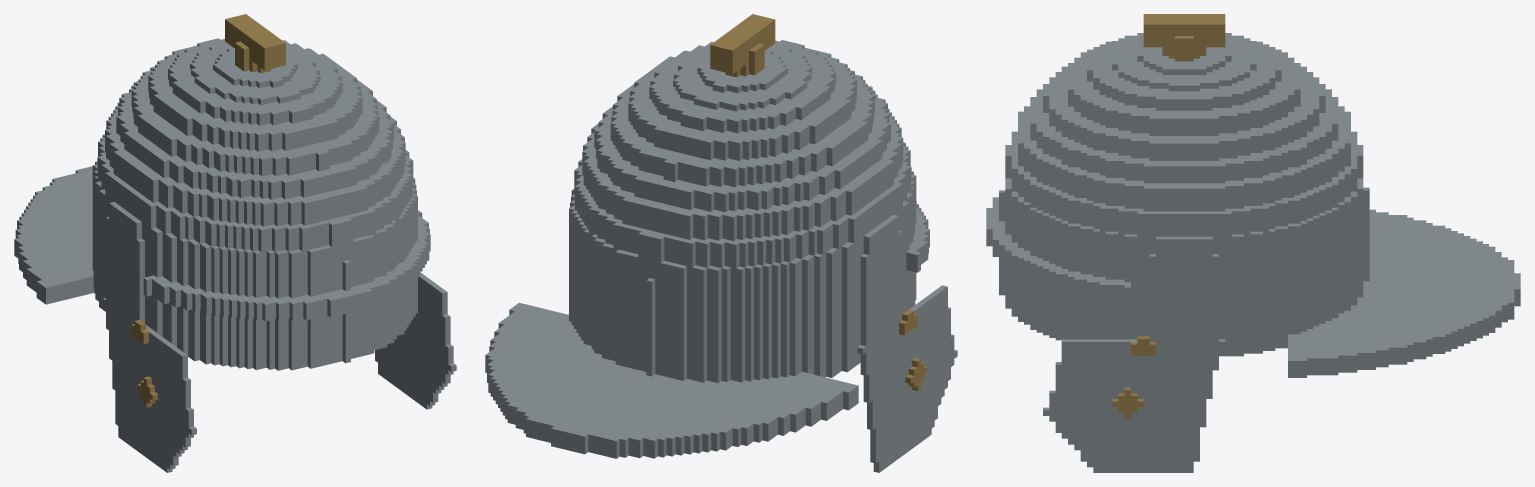
Rendered from helmet_galea.glb.
3 renders of one model, left to right at view 1: azimuth 30°, elevation 25°; view 2: azimuth 150°, elevation 25°; view 3: azimuth 270°, elevation 25°, orthographic. The views are drawn at different scales.
Parts seen in each view (by area): view 1: helmet_galea:compound; view 2: helmet_galea:compound; view 3: helmet_galea:compound.
Boxes of the visible parts, x1=… form: helmet_galea:compound: x1=14, y1=14, x2=456, y2=472; helmet_galea:compound: x1=485, y1=14, x2=957, y2=472; helmet_galea:compound: x1=986, y1=14, x2=1520, y2=472.
Size of the model in its own units: 0.24 by 0.272 by 0.34.
